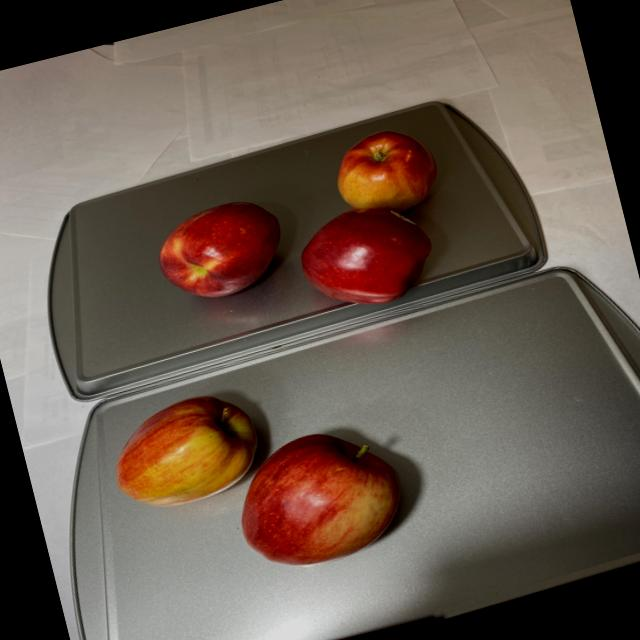apple: (100, 348, 421, 604), (138, 120, 466, 348)
